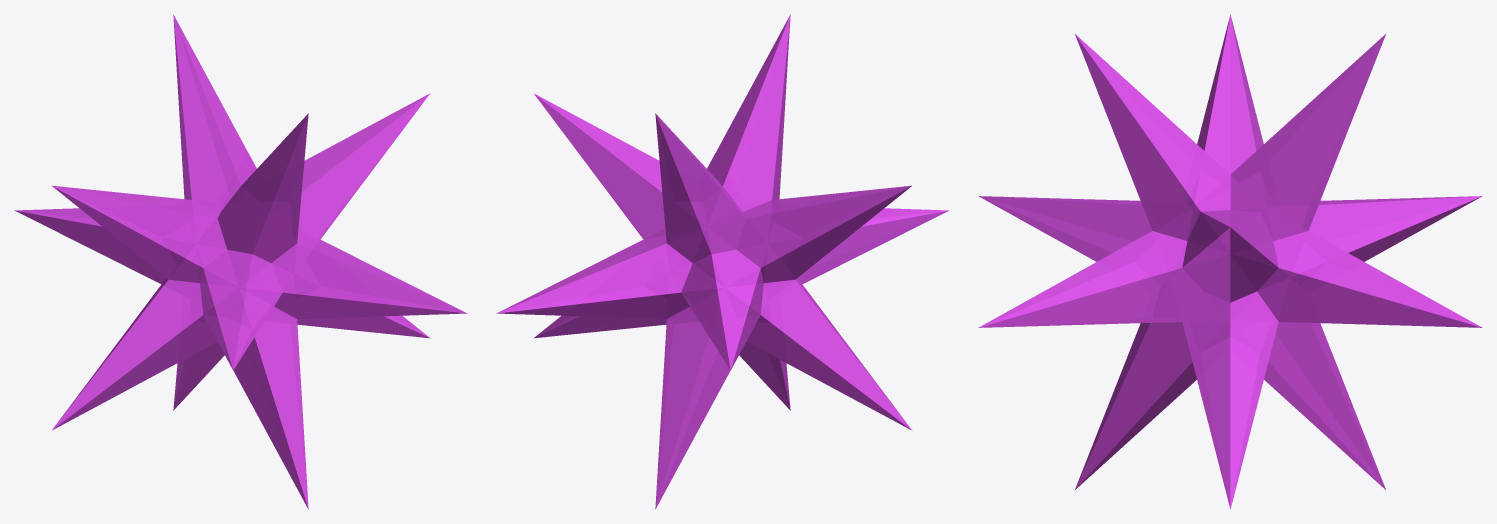
File: MedialTriambicIcosahedron.obj
3 renders of one model, left to right at view 1: azimuth 30°, elevation 25°; view 2: azimuth 150°, elevation 25°; view 3: azimuth 270°, elevation 25°, orthographic. The views are drawn at different scales.
Size of the model in its own units: 5.24 by 5.24 by 5.24.
